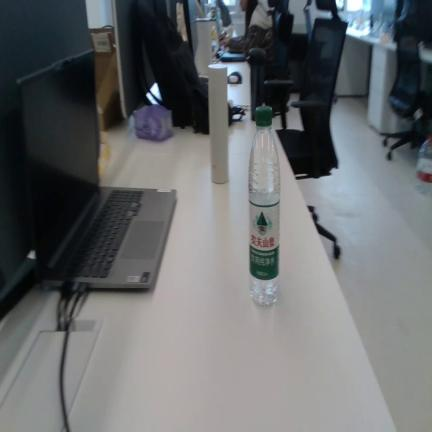bottle: (248, 106, 280, 305)
